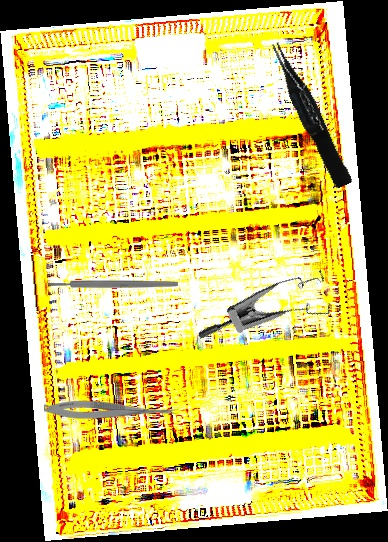Micro Scissor: (44, 400, 179, 419)
Scalpel Handle: (48, 280, 178, 288)
Speculum: (196, 248, 345, 386)
Tissue Forceps: (268, 36, 353, 192)
